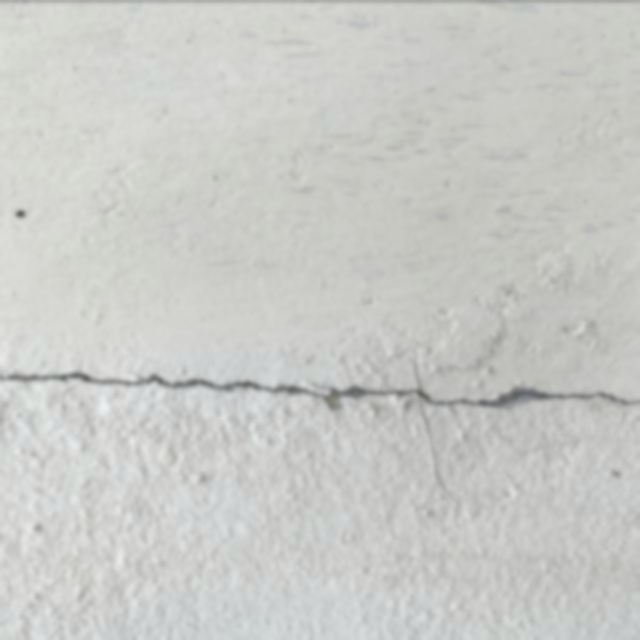SurfaceCrack: (0, 314, 639, 451)
